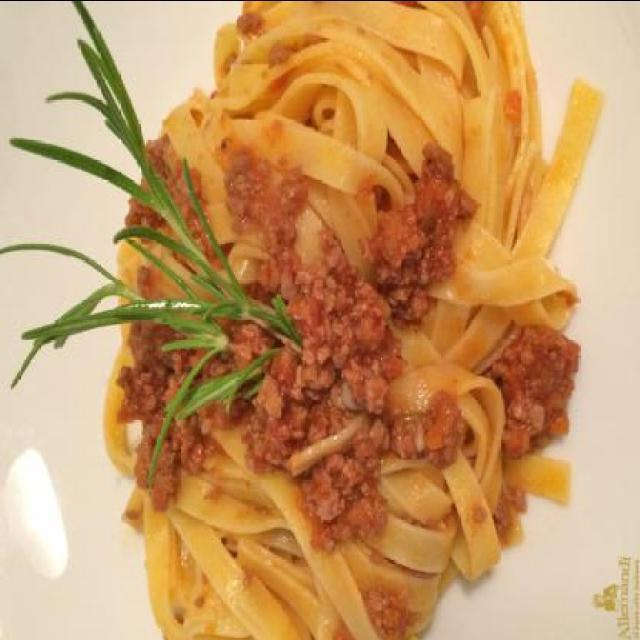Pasta al ragu: (51, 4, 611, 628)
